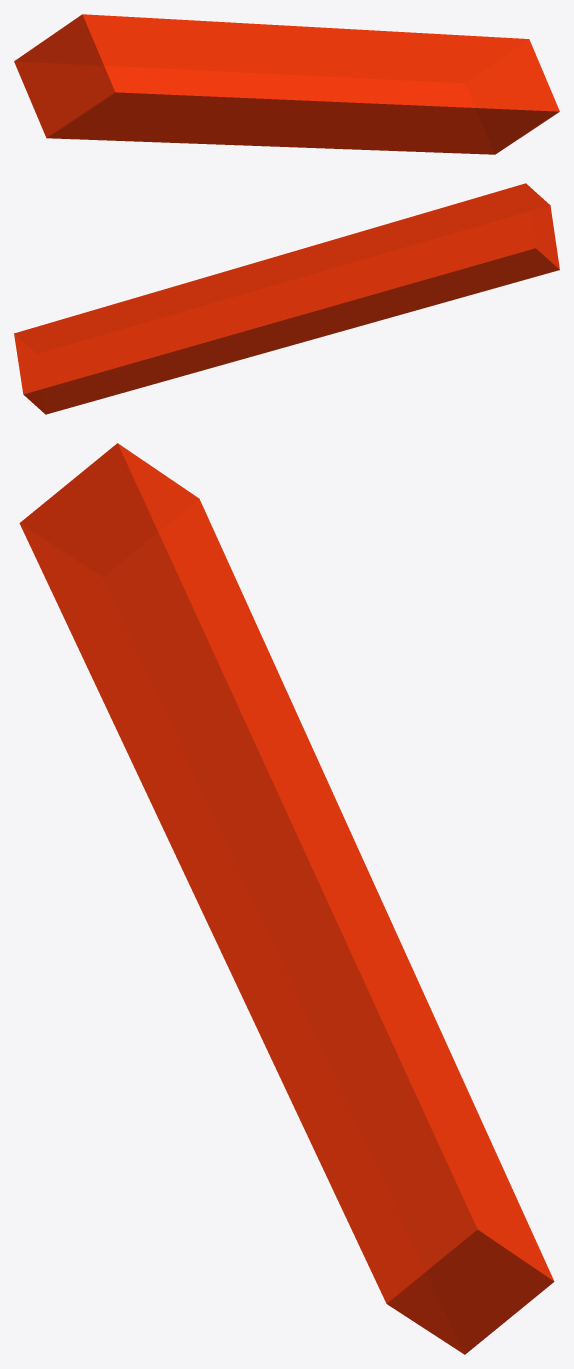
Rendered from Event_420094457_EBrechit_20.fbx.
3 views of the same model, one above another, from view 1: azimuth 30°, elevation 25°; view 2: azimuth 150°, elevation 25°; view 3: azimuth 270°, elevation 25° (orthographic). The views are drawn at different scales.
Visible parts, largest first — view 1: Model; view 2: Model; view 3: Model.
Part boxes in pixels (x1=…): Model: x1=14, y1=14, x2=559, y2=154; Model: x1=14, y1=183, x2=559, y2=414; Model: x1=19, y1=443, x2=554, y2=1354.
Size of the model in its own units: 0.479 by 0.267 by 0.2453.
